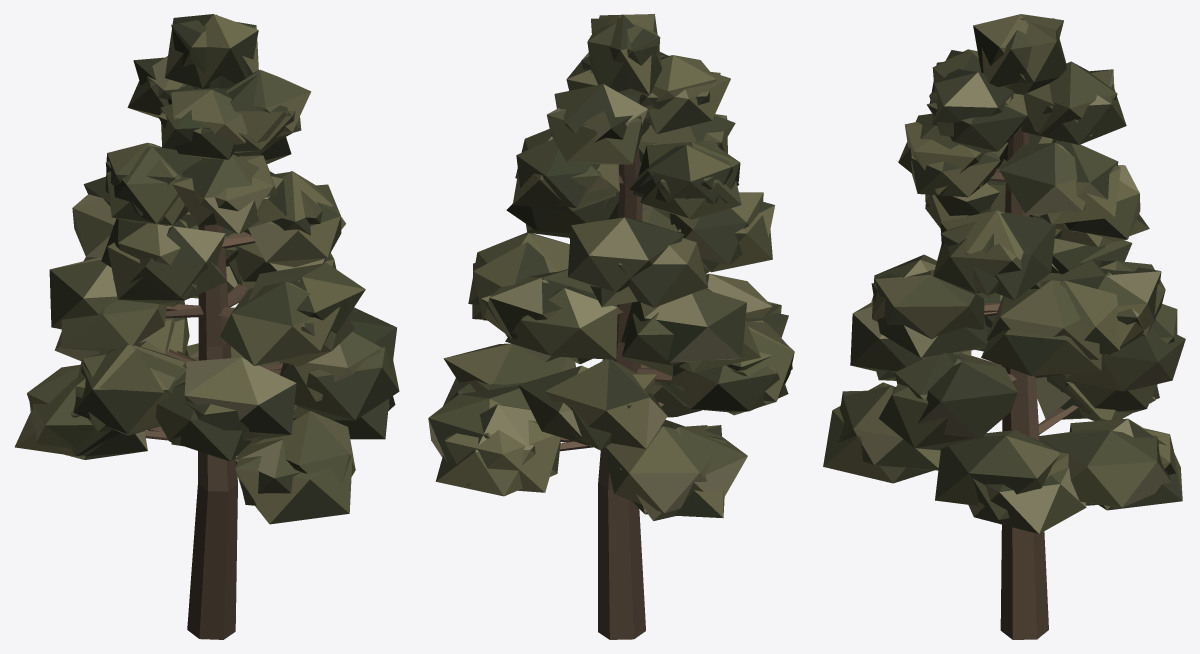
File: pine-coulter.glb
The picture shows the model from 3 angles, left to right: view 1: azimuth 30°, elevation 25°; view 2: azimuth 150°, elevation 25°; view 3: azimuth 270°, elevation 25°; orthographic projection.
Parts seen in each view (by area): view 1: pine-coulter_v0_LOD0, pine-coulter_v2_LOD0, pine-coulter_v1_LOD0; view 2: pine-coulter_v0_LOD0, pine-coulter_v2_LOD0, pine-coulter_v1_LOD0; view 3: pine-coulter_v2_LOD0, pine-coulter_v0_LOD0, pine-coulter_v1_LOD0.
Boxes of the visible parts, x1=… form: pine-coulter_v0_LOD0: x1=27, y1=14, x2=399, y2=639; pine-coulter_v2_LOD0: x1=29, y1=14, x2=396, y2=484; pine-coulter_v1_LOD0: x1=15, y1=20, x2=389, y2=505; pine-coulter_v0_LOD0: x1=445, y1=16, x2=792, y2=639; pine-coulter_v2_LOD0: x1=428, y1=14, x2=788, y2=520; pine-coulter_v1_LOD0: x1=435, y1=22, x2=794, y2=518; pine-coulter_v2_LOD0: x1=838, y1=14, x2=1177, y2=507; pine-coulter_v0_LOD0: x1=823, y1=17, x2=1185, y2=639; pine-coulter_v1_LOD0: x1=841, y1=21, x2=1182, y2=533.
Size of what is drawn, in the model's own units: 9.29 by 16.89 by 9.
